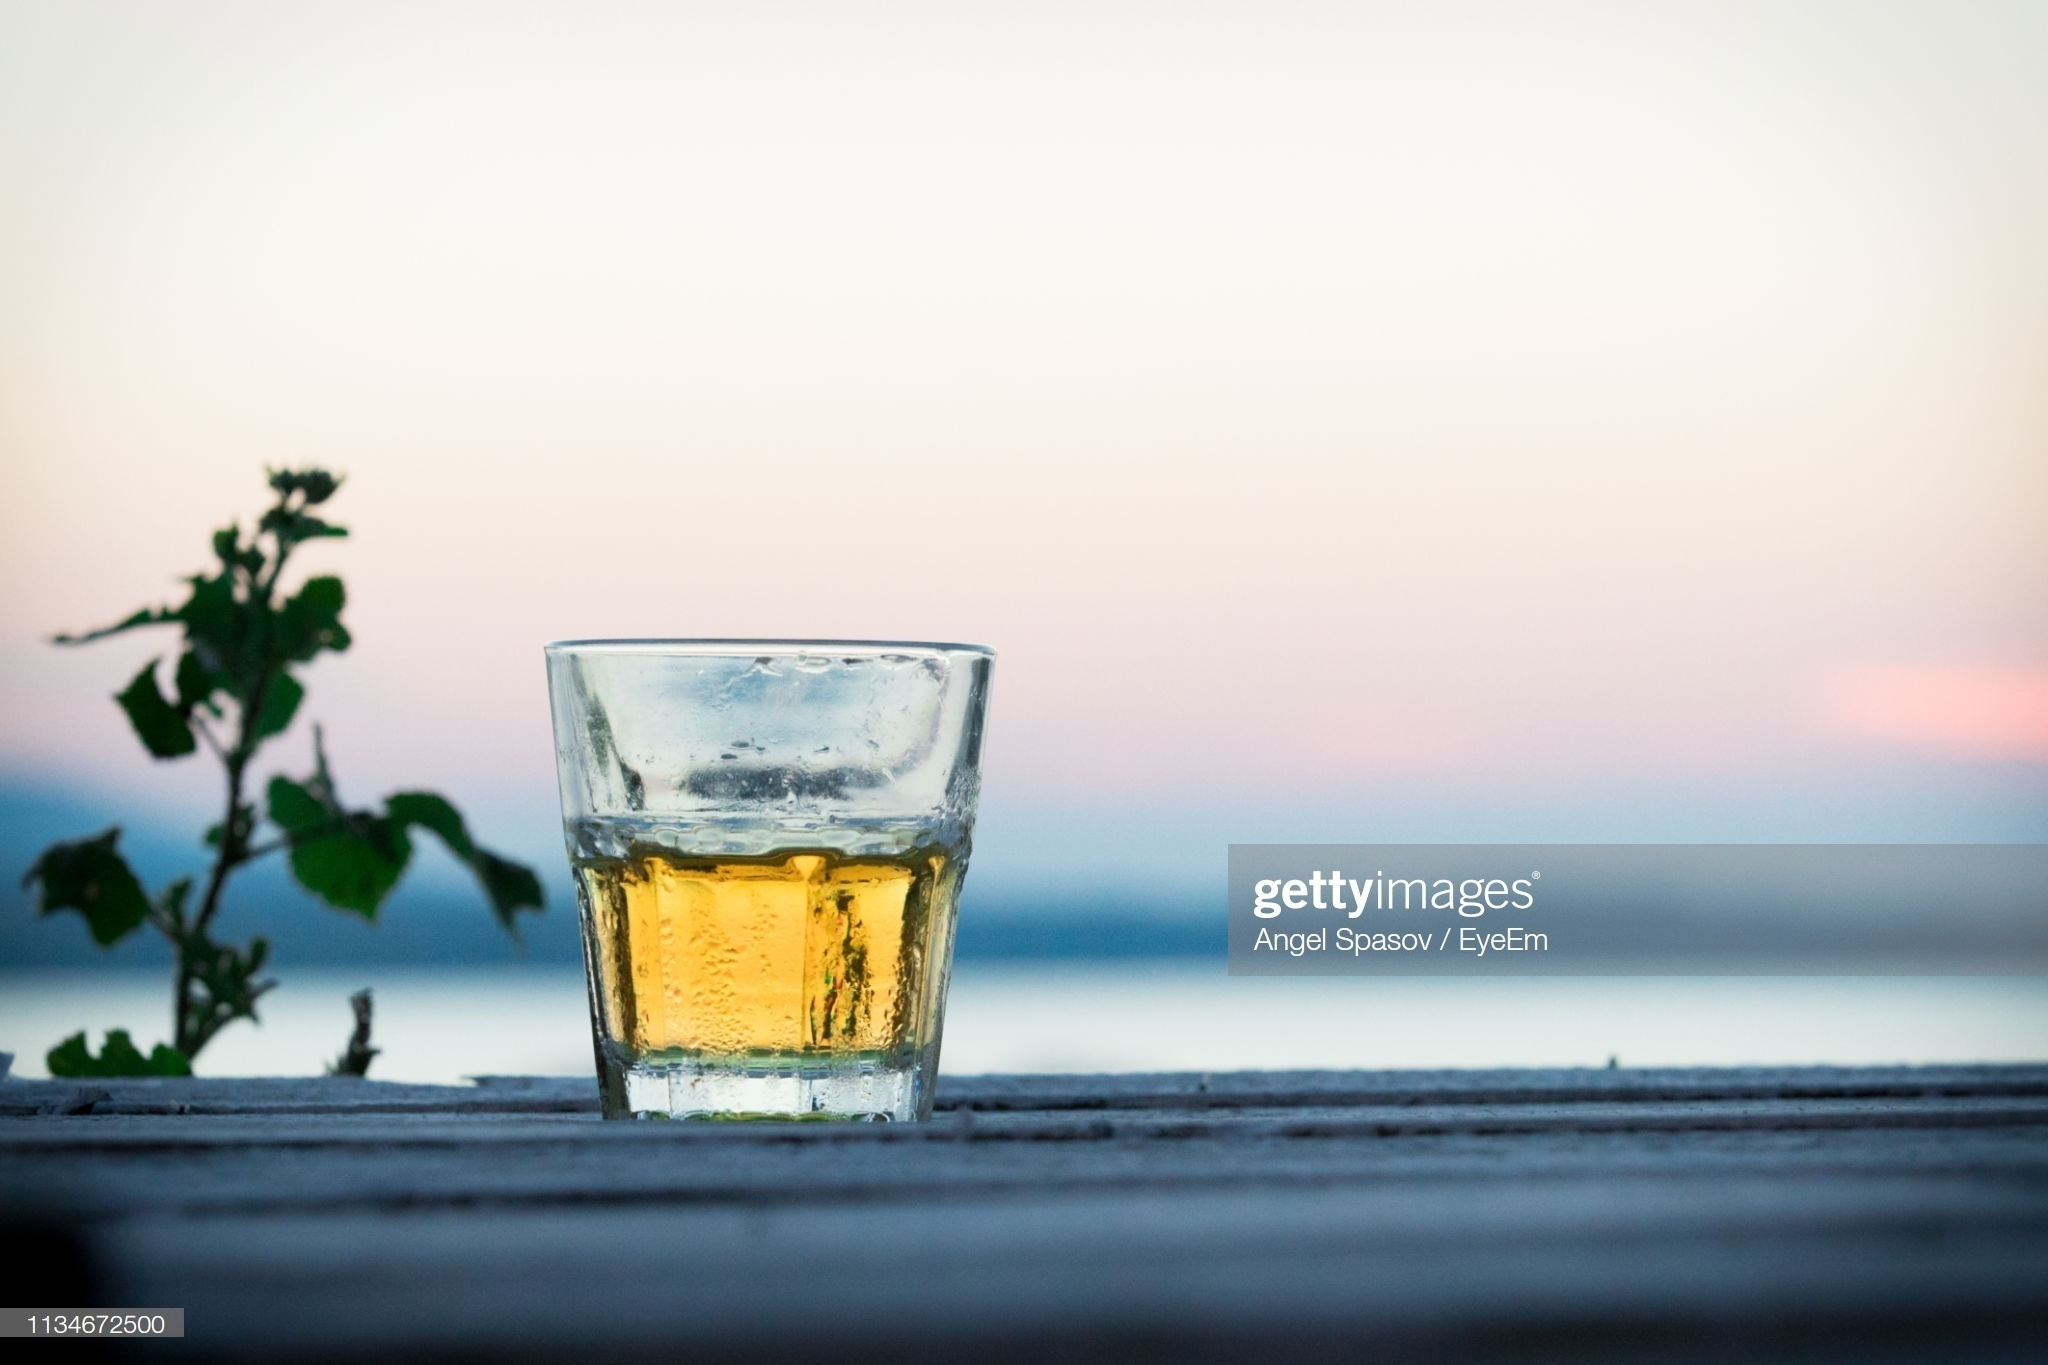whiskey: (547, 640, 987, 1108)
